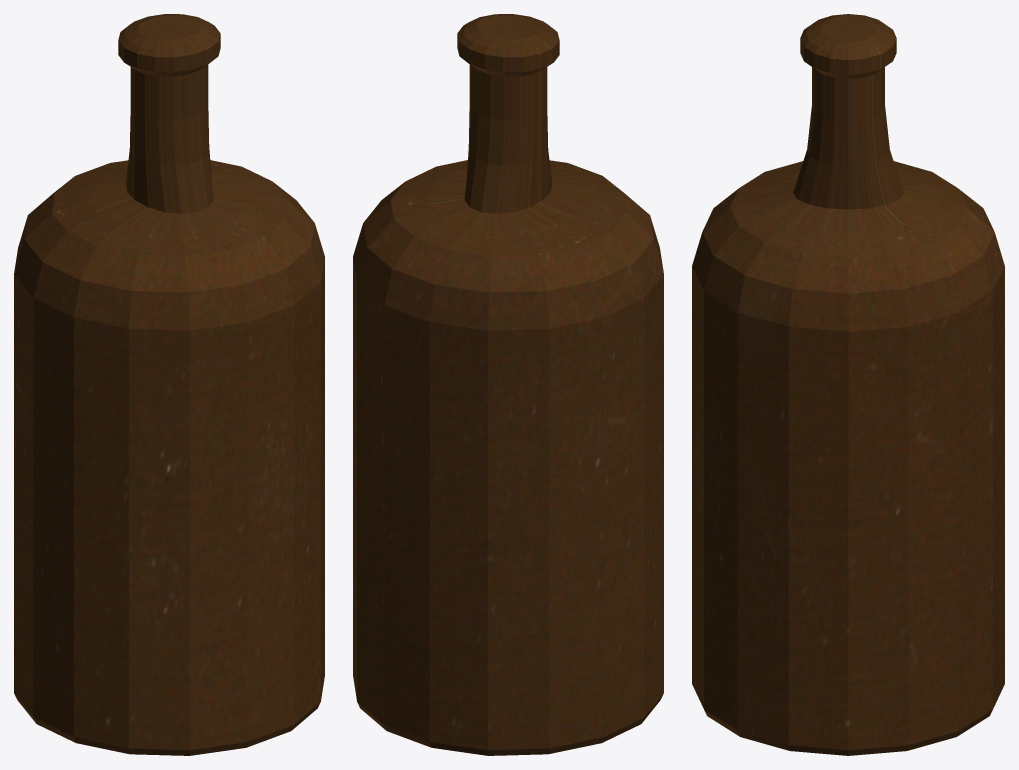
Rendered from Bottle.fbx.
3 views of the same model, side by side, from view 1: azimuth 30°, elevation 25°; view 2: azimuth 150°, elevation 25°; view 3: azimuth 270°, elevation 25° (orthographic).
Parts seen in each view (by area): view 1: Bottle; view 2: Bottle; view 3: Bottle.
Boxes of the visible parts, x1,y1,x2,y2 form: Bottle: [14, 14, 324, 755]; Bottle: [353, 14, 663, 755]; Bottle: [692, 14, 1004, 755].
Bounding box in the file's own units: 80 × 188 × 80.
